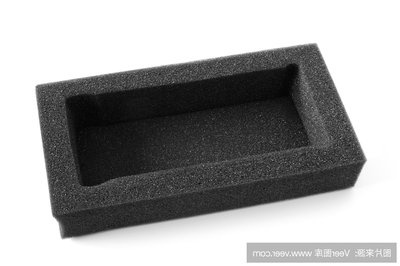5/可回收垃圾/泡沫: (35, 43, 367, 238)
